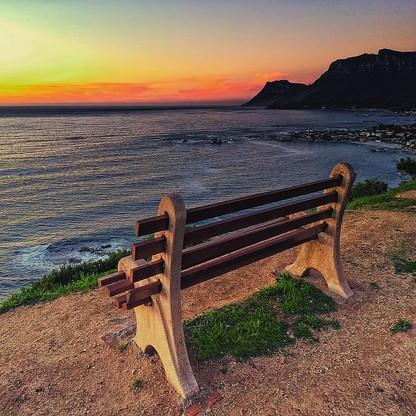obstacle: (95, 175, 374, 396)
